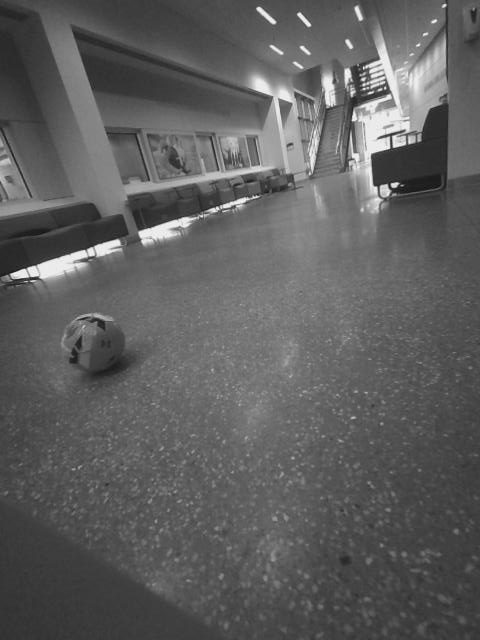ball: (56, 306, 129, 380)
